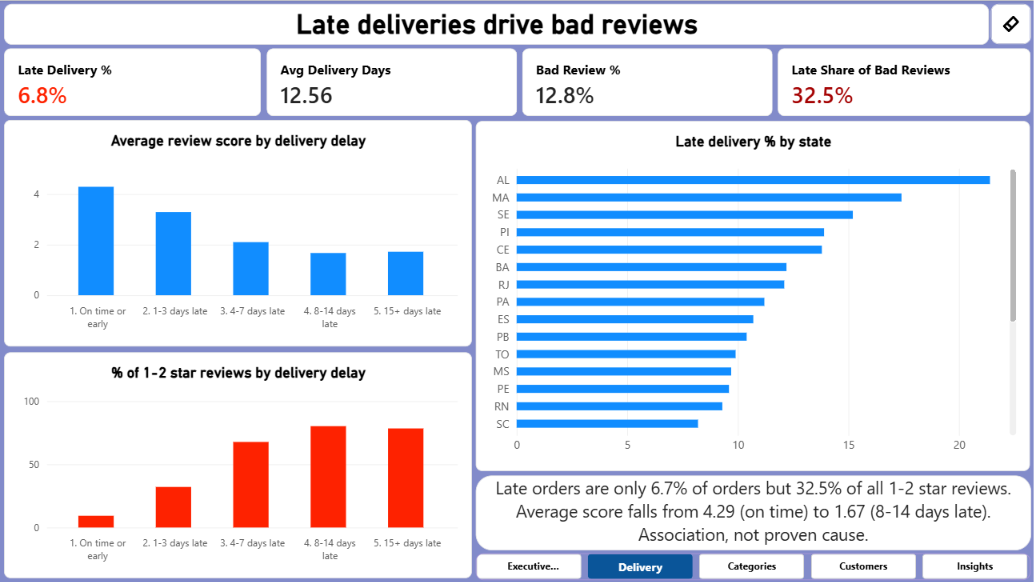

What the dashboard file says about the page in this screenshot:
{"tool":"powerbi","page":{"name":"Delivery","canvas":[1280,720],"ordinal":1},"visuals":[{"type":"cardVisual","fields":{"Data":["_measures.Late Share of Bad Reviews"]},"box":[962.5,58.8,313.8,84.4],"z":0},{"type":"columnChart","title":"Average review score by delivery delay","fields":{"Category":["agg_delay_buckets.delay_bucket"],"Y":["Sum(agg_delay_buckets.avg_review_score)"]},"box":[5,147.5,578.8,280],"z":1000},{"type":"barChart","title":"Late delivery % by state","fields":{"Category":["agg_state_delivery.customer_state"],"Y":["Sum(agg_state_delivery.late_pct)"]},"box":[588.8,148.8,686.2,433.1],"z":2000},{"type":"columnChart","title":"% of 1-2 star reviews by delivery delay","fields":{"Category":["agg_delay_buckets.delay_bucket"],"Y":["Sum(agg_delay_buckets.one_or_two_star_pct)"]},"box":[4.4,434.4,578.9,280],"z":3000},{"type":"cardVisual","fields":{"Data":["_measures.Late Delivery %"]},"box":[5.4,59.2,318.5,84.6],"z":4000},{"type":"cardVisual","fields":{"Data":["_measures.Avg Delivery Days"]},"box":[330,58.5,310,84.5],"z":5000},{"type":"cardVisual","fields":{"Data":["_measures.Bad Review %"]},"box":[646.2,58.5,310,84.5],"z":6000},{"type":"textbox","box":[588.8,587.5,687.5,92.5],"z":7000},{"type":"textbox","title":"Late deliveries drive bad reviews","box":[5,3.7,1218.7,50.9],"z":8000},{"type":"pageNavigator","box":[588.8,684.2,686.5,33.1],"z":9000},{"type":"actionButton","box":[1226.2,3.8,50,50],"z":10000}]}

Visuals, with their boxes in screenshot pixels (x1, y1, x2, y2), scaled from the page's 1280x720 canvas onto the 1034x582 screenshot:
cardVisual - _measures.Late Share of Bad Reviews: 778/48/1031/116
"Average review score by delivery delay" columnChart: 4/119/472/346
"Late delivery % by state" barChart: 476/120/1030/470
"% of 1-2 star reviews by delivery delay" columnChart: 4/351/471/577
cardVisual - _measures.Late Delivery %: 4/48/262/116
cardVisual - _measures.Avg Delivery Days: 267/47/517/116
cardVisual - _measures.Bad Review %: 522/47/772/116
textbox: 476/475/1031/550
"Late deliveries drive bad reviews" textbox: 4/3/989/44
pageNavigator: 476/553/1030/580
actionButton: 991/3/1031/43
